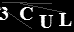3: (1, 6, 8, 21)
C: (18, 6, 34, 21)
L: (57, 12, 72, 27)
U: (37, 14, 54, 28)
